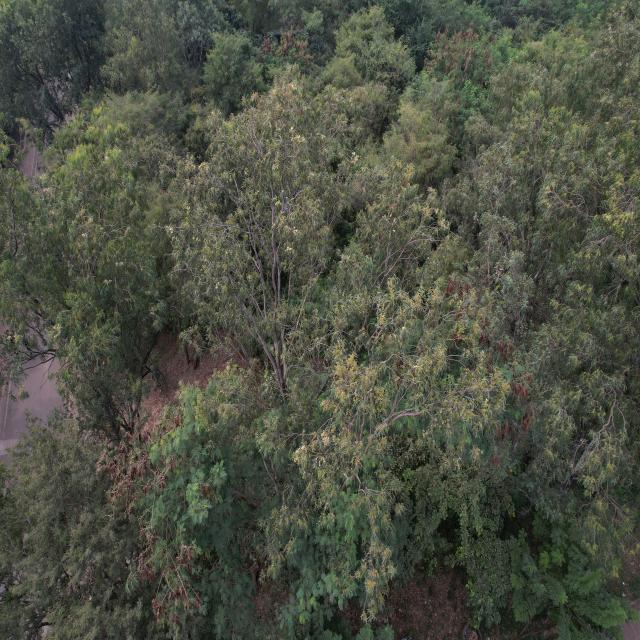Devakanchan tree: (414, 437, 512, 640)
